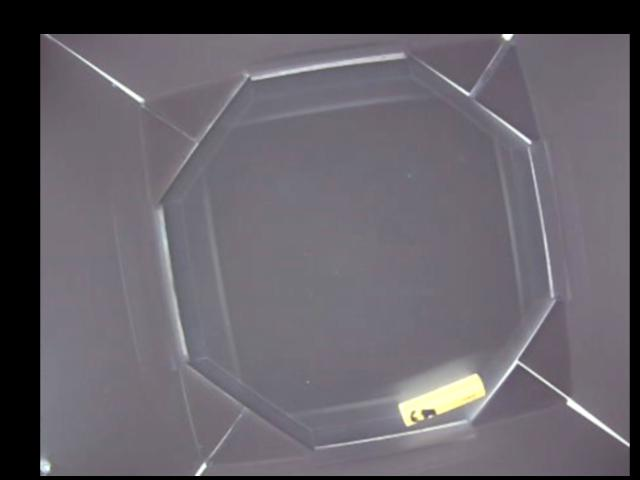Battery: (398, 371, 486, 426)
